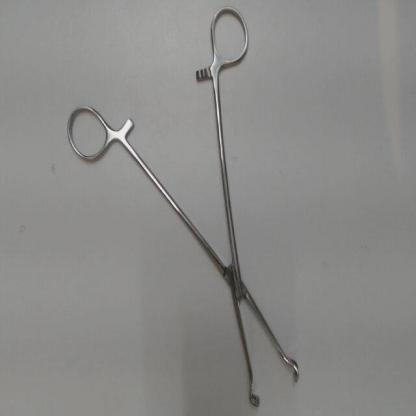8 Babcock Tissue Forceps: (60, 3, 304, 409)
